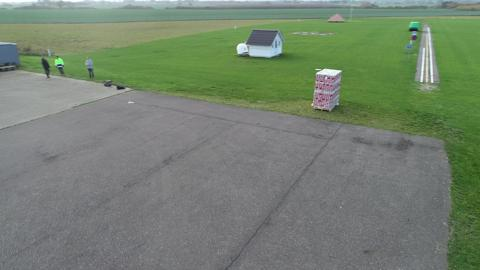RockwoolPallet: (313, 69, 343, 111)
